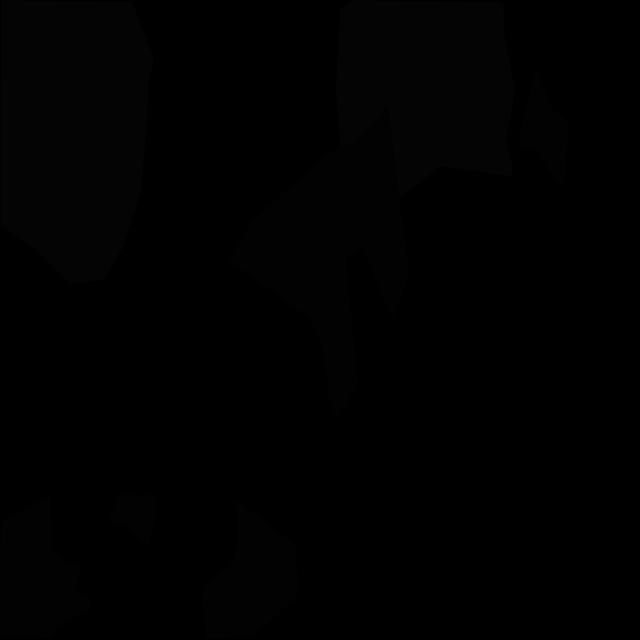cardboard: (228, 107, 410, 419), (200, 499, 298, 639), (0, 495, 91, 638), (519, 65, 569, 187), (110, 493, 156, 547)
soft_plastic: (0, 0, 154, 283), (336, 0, 515, 198)
